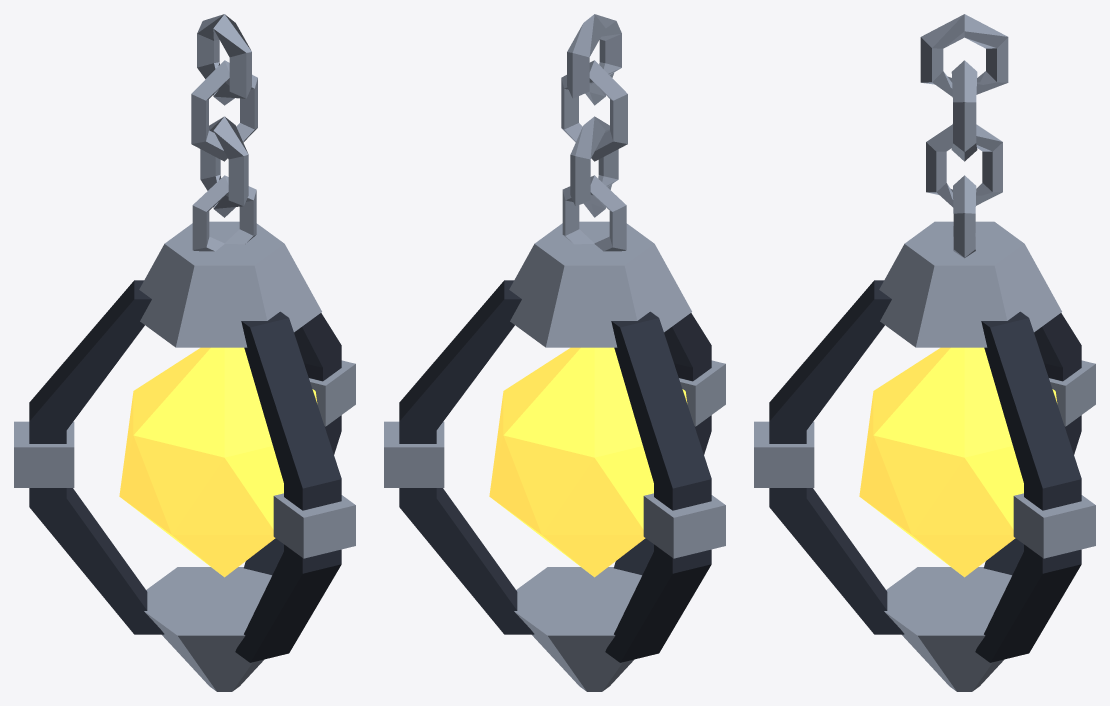
Rendered from MoltenCore.fbx.
The picture shows the model from 3 angles, left to right: view 1: azimuth 30°, elevation 25°; view 2: azimuth 150°, elevation 25°; view 3: azimuth 270°, elevation 25°; orthographic projection.
Visible parts, largest first — view 1: Body_Forge_Steel, Body_Forge_Dark, Neon, Chain; view 2: Body_Forge_Steel, Body_Forge_Dark, Neon, Chain; view 3: Body_Forge_Steel, Body_Forge_Dark, Neon, Chain.
Part boxes in pixels (box(x1,y1,x2,y2)): Body_Forge_Steel: box(14, 175, 355, 691); Body_Forge_Dark: box(29, 280, 341, 662); Neon: box(119, 347, 317, 577); Chain: box(191, 14, 257, 217); Body_Forge_Steel: box(384, 175, 725, 691); Body_Forge_Dark: box(399, 280, 711, 662); Neon: box(489, 347, 687, 577); Chain: box(561, 14, 627, 217); Body_Forge_Steel: box(754, 175, 1095, 691); Body_Forge_Dark: box(769, 280, 1081, 662); Neon: box(859, 347, 1057, 577); Chain: box(920, 14, 1008, 207).
Size of the model in its own units: 0.21 by 0.3949 by 0.1819.
